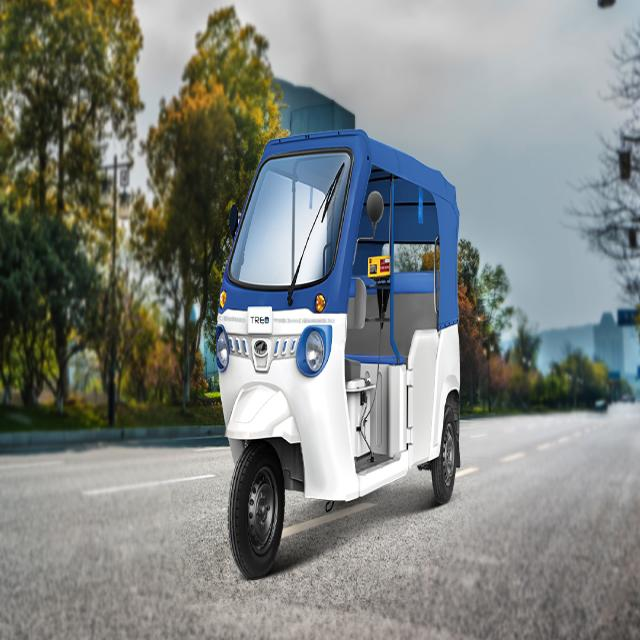autorickshaw: (215, 131, 460, 577)
